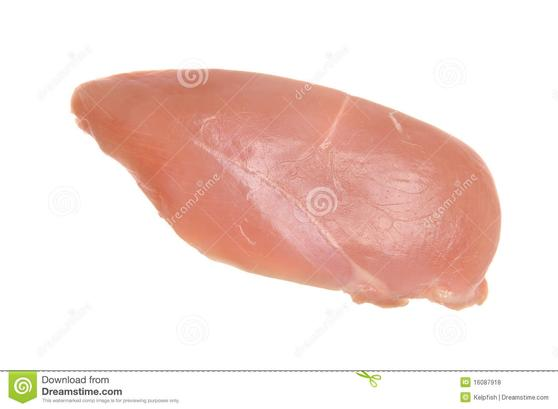chicken_fillet: (71, 65, 505, 313)
